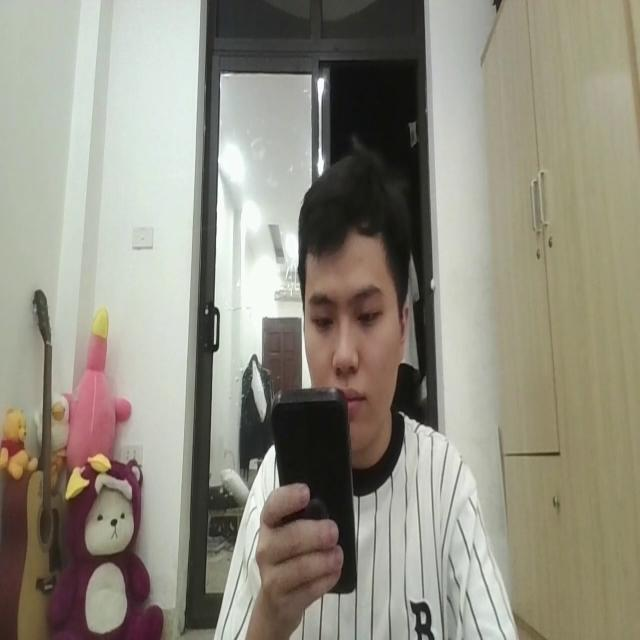phone: (270, 380, 361, 598)
student: (215, 135, 516, 640)
